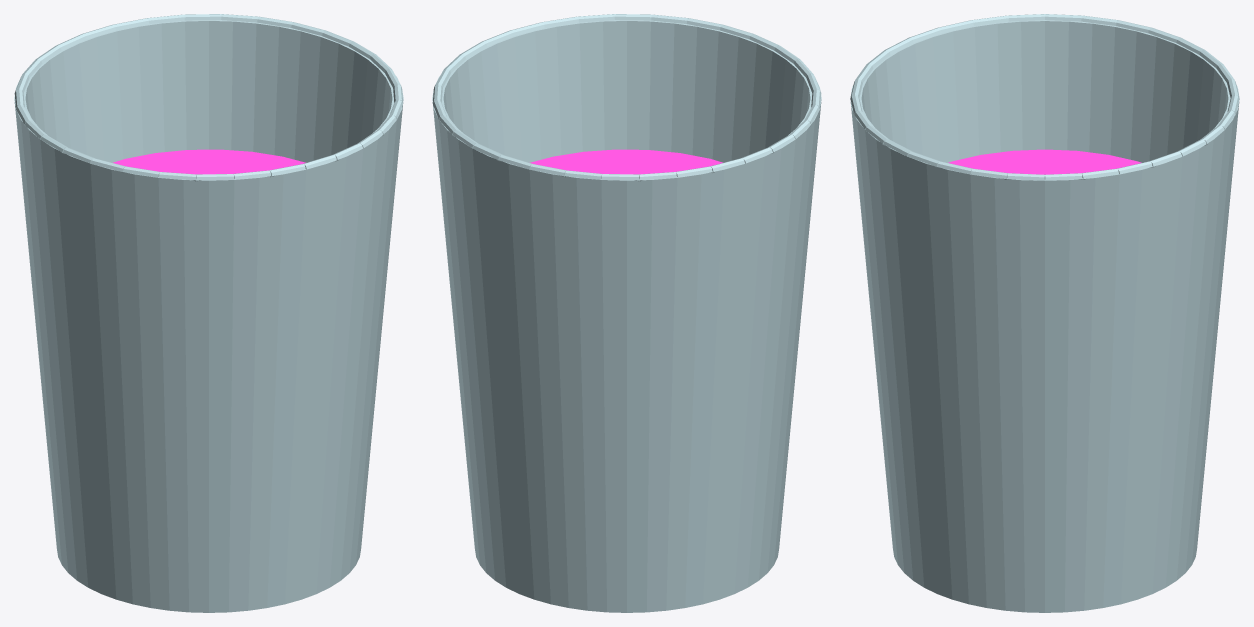
Rendered from drink_quorum_blend.glb.
3 renders of one model, left to right at view 1: azimuth 30°, elevation 25°; view 2: azimuth 150°, elevation 25°; view 3: azimuth 270°, elevation 25°, orthographic.
Visible parts, largest first — view 1: clear_0001, liquid_0002; view 2: clear_0001, liquid_0002; view 3: clear_0001, liquid_0002.
Boxes of the visible parts, x1=… form: clear_0001: x1=14, y1=20, x2=403, y2=612; liquid_0002: x1=113, y1=149, x2=305, y2=174; clear_0001: x1=432, y1=20, x2=821, y2=612; liquid_0002: x1=530, y1=149, x2=722, y2=174; clear_0001: x1=850, y1=20, x2=1239, y2=612; liquid_0002: x1=948, y1=149, x2=1141, y2=174.
Bounding box in the file's own units: 0.174 × 0.224 × 0.174.
